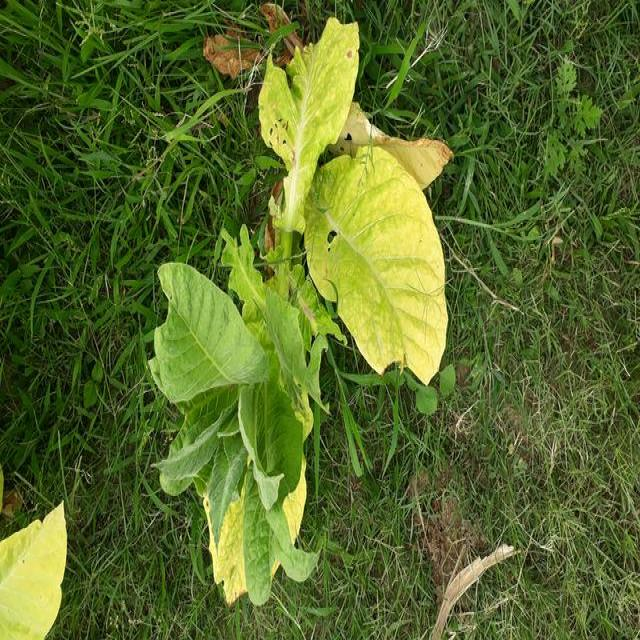crop: (143, 21, 450, 612)
